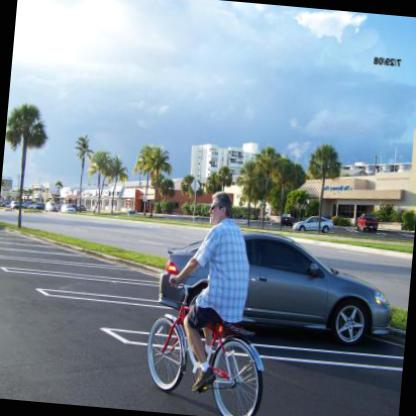car: (155, 222, 401, 348), (292, 212, 333, 233), (281, 212, 292, 226), (61, 203, 76, 213), (45, 202, 58, 213), (28, 202, 44, 210), (10, 200, 20, 209)
